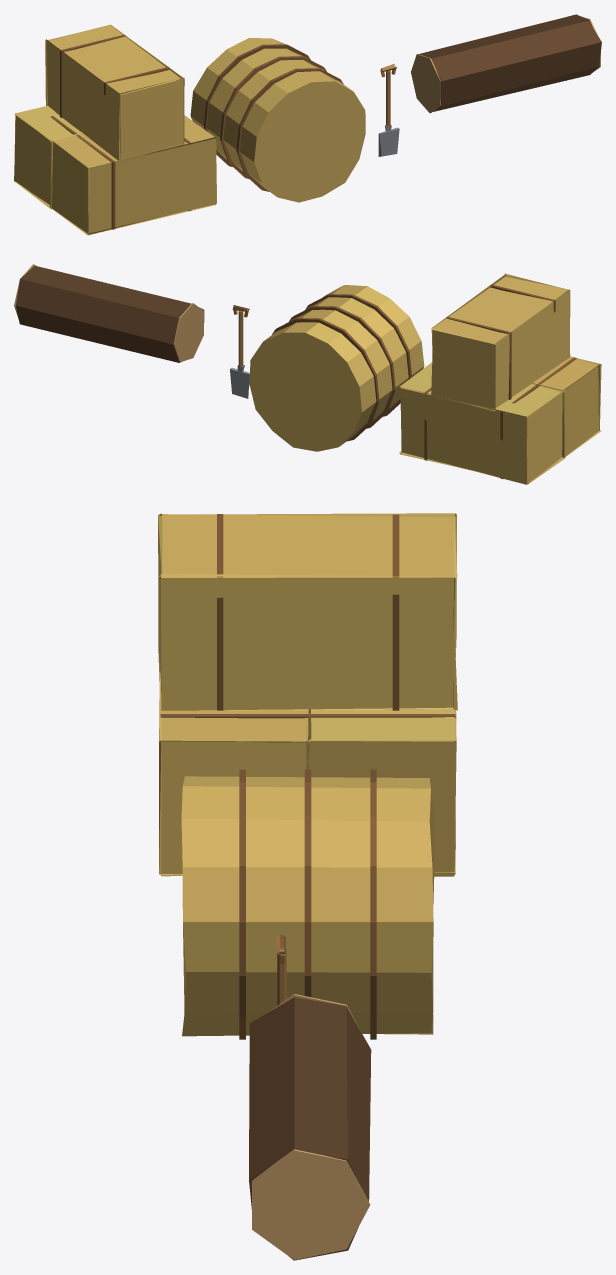
The model's file is lt2_faceted.glb.
3 views of the same model, one above another, from view 1: azimuth 30°, elevation 25°; view 2: azimuth 150°, elevation 25°; view 3: azimuth 270°, elevation 25° (orthographic). The views are drawn at different scales.
Visible parts, largest first — view 1: RoundBale, SquareBale.002, SquareBale, Log, SquareBale.001, SmallShovel; view 2: RoundBale, SquareBale.002, SquareBale.001, Log, SquareBale, SmallShovel; view 3: RoundBale, SquareBale.002, Log, SquareBale, SquareBale.001.
Part boxes in pixels (x1,y1,x2,y2): RoundBale: (190,38,365,202); SquareBale.002: (45,24,184,161); SquareBale: (50,115,216,235); Log: (411,14,601,113); SquareBale.001: (14,106,82,208); SmallShovel: (378,63,399,156); RoundBale: (249,285,424,451); SquareBale.002: (431,273,570,411); SquareBale.001: (399,362,565,484); Log: (14,264,204,362); SquareBale: (531,356,601,457); SmallShovel: (230,305,249,398); RoundBale: (181,769,434,1039); SquareBale.002: (158,513,457,710); Log: (249,994,371,1260); SquareBale: (159,671,308,876); SquareBale.001: (307,648,456,876).
Size of the model in its own units: 4.73 by 1.36 by 1.15.
